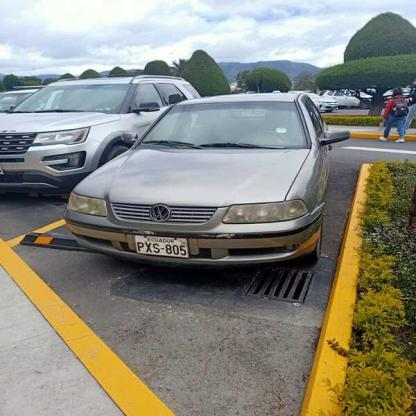Placa: (135, 231, 192, 260)
